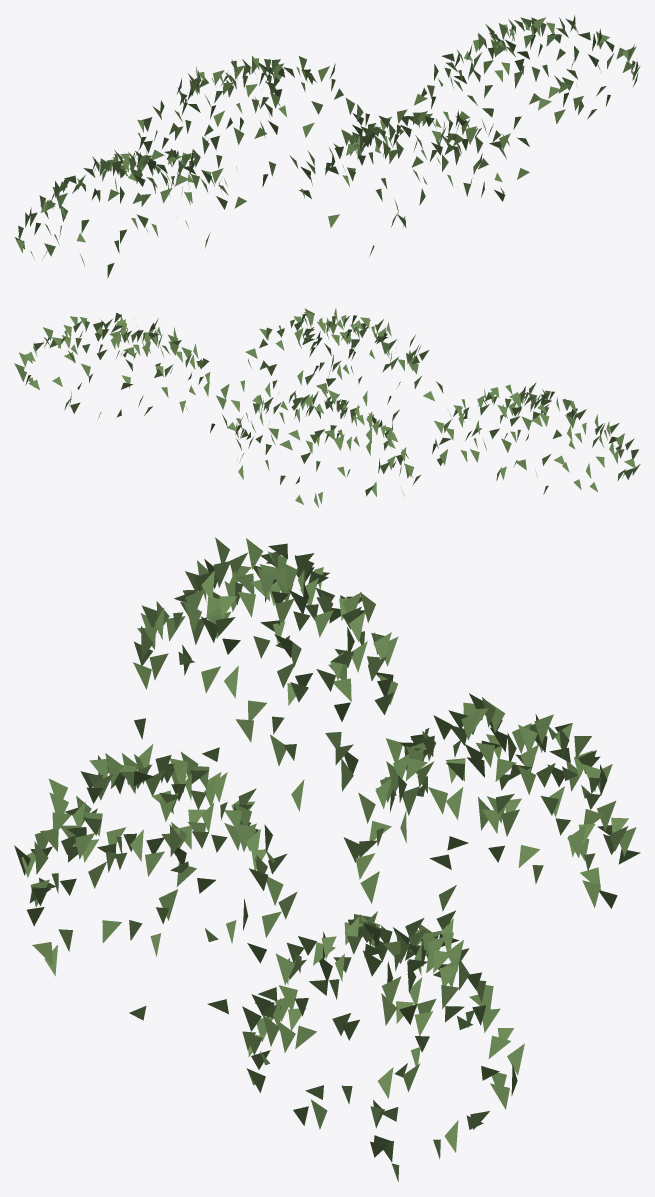
File: teaching3-vegetation-00-medium.glb
The picture shows the model from 3 angles, top to bottom: view 1: azimuth 30°, elevation 25°; view 2: azimuth 150°, elevation 25°; view 3: azimuth 270°, elevation 25°; orthographic projection. The views are drawn at different scales.
Visible parts, largest first — view 1: shrubs; view 2: shrubs; view 3: shrubs.
Part boxes in pixels (x1,y1,x2,y2): shrubs: (14, 15, 640, 278); shrubs: (14, 308, 640, 507); shrubs: (14, 537, 640, 1181).
Size of the model in its own units: 11.86 by 1.7 by 5.53.
